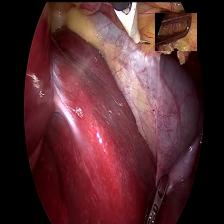Grasper: (142, 169, 174, 223), (154, 12, 194, 49)
Hook: (108, 2, 153, 49)
